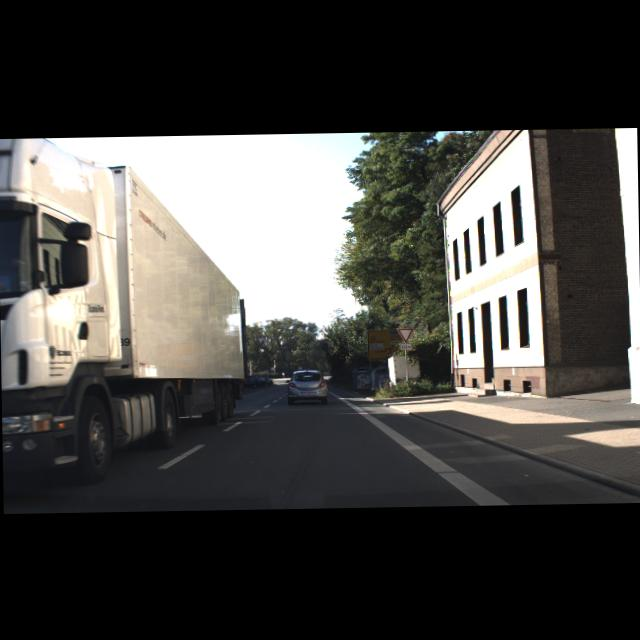other: (396, 327, 414, 342)
